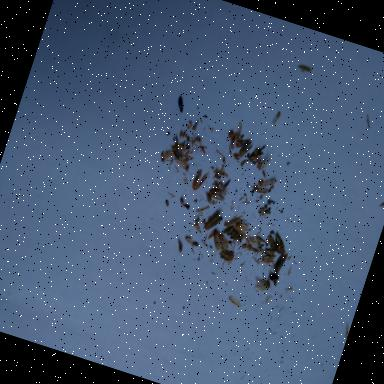pbw: (204, 208, 225, 236), (190, 167, 209, 193), (268, 232, 288, 254), (208, 228, 226, 252), (272, 250, 288, 274), (207, 186, 228, 202), (224, 214, 240, 231), (215, 233, 231, 249), (233, 221, 250, 236), (218, 248, 236, 260), (222, 224, 234, 237), (255, 236, 266, 243)
